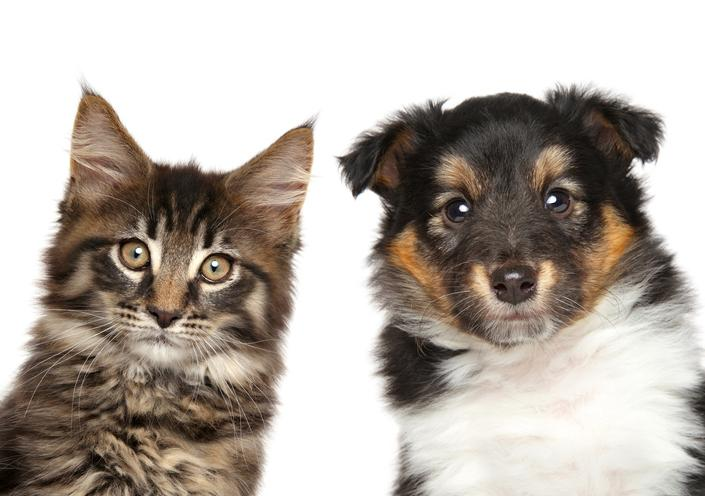cats: (2, 73, 325, 496)
dogs: (336, 76, 704, 496)
